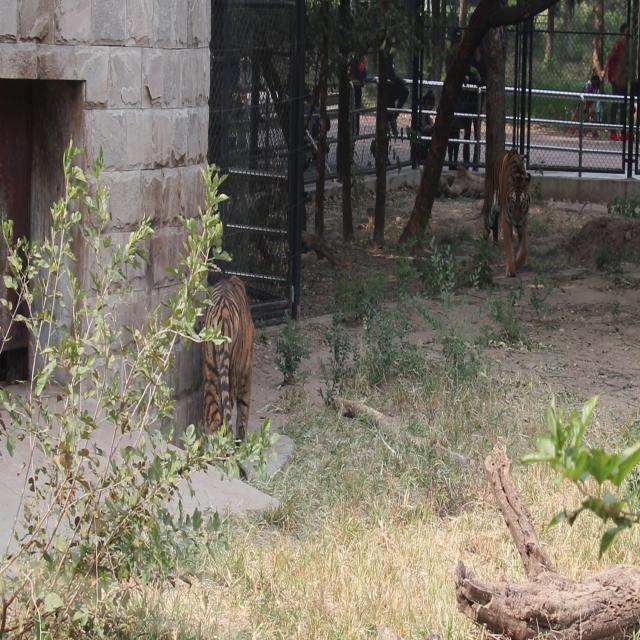Tiger: (192, 265, 270, 456), (482, 139, 533, 290)
